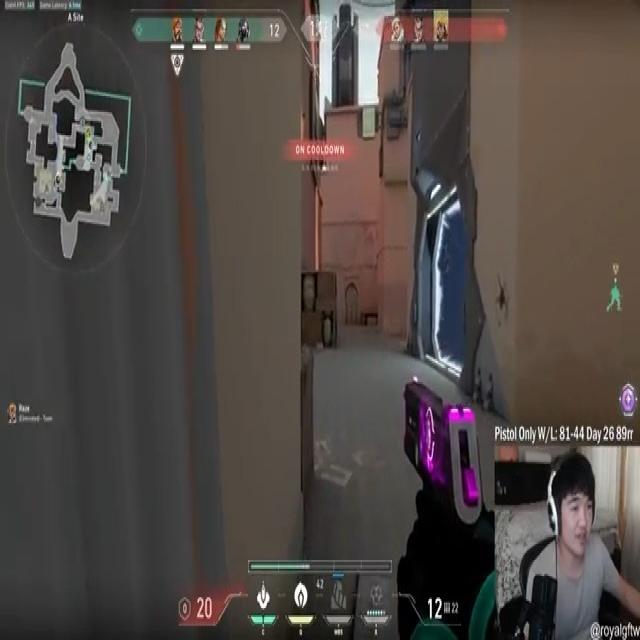ally behind wall: (608, 281, 621, 320)
